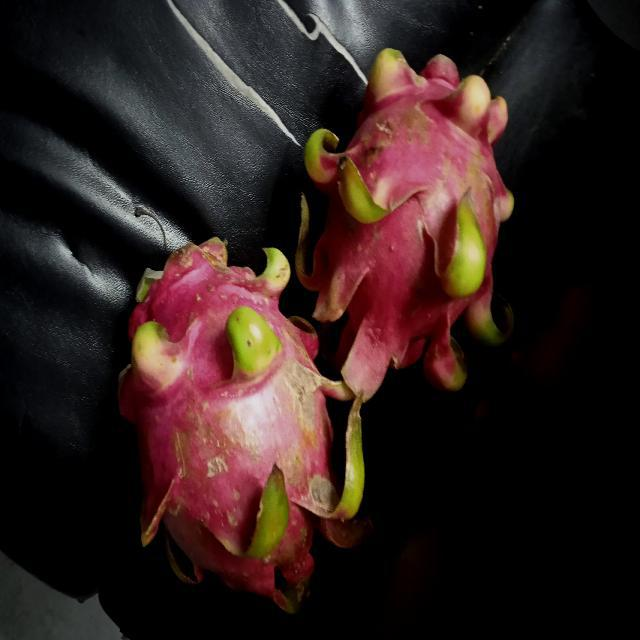do: (117, 239, 347, 618), (298, 42, 522, 400)
